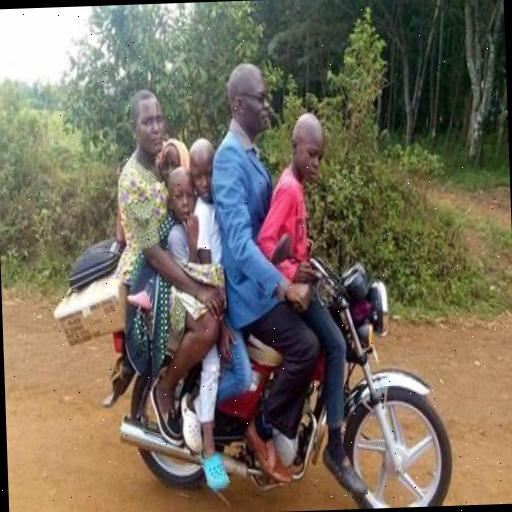no helmet: (190, 54, 311, 160)
triple riding: (92, 27, 458, 512)
